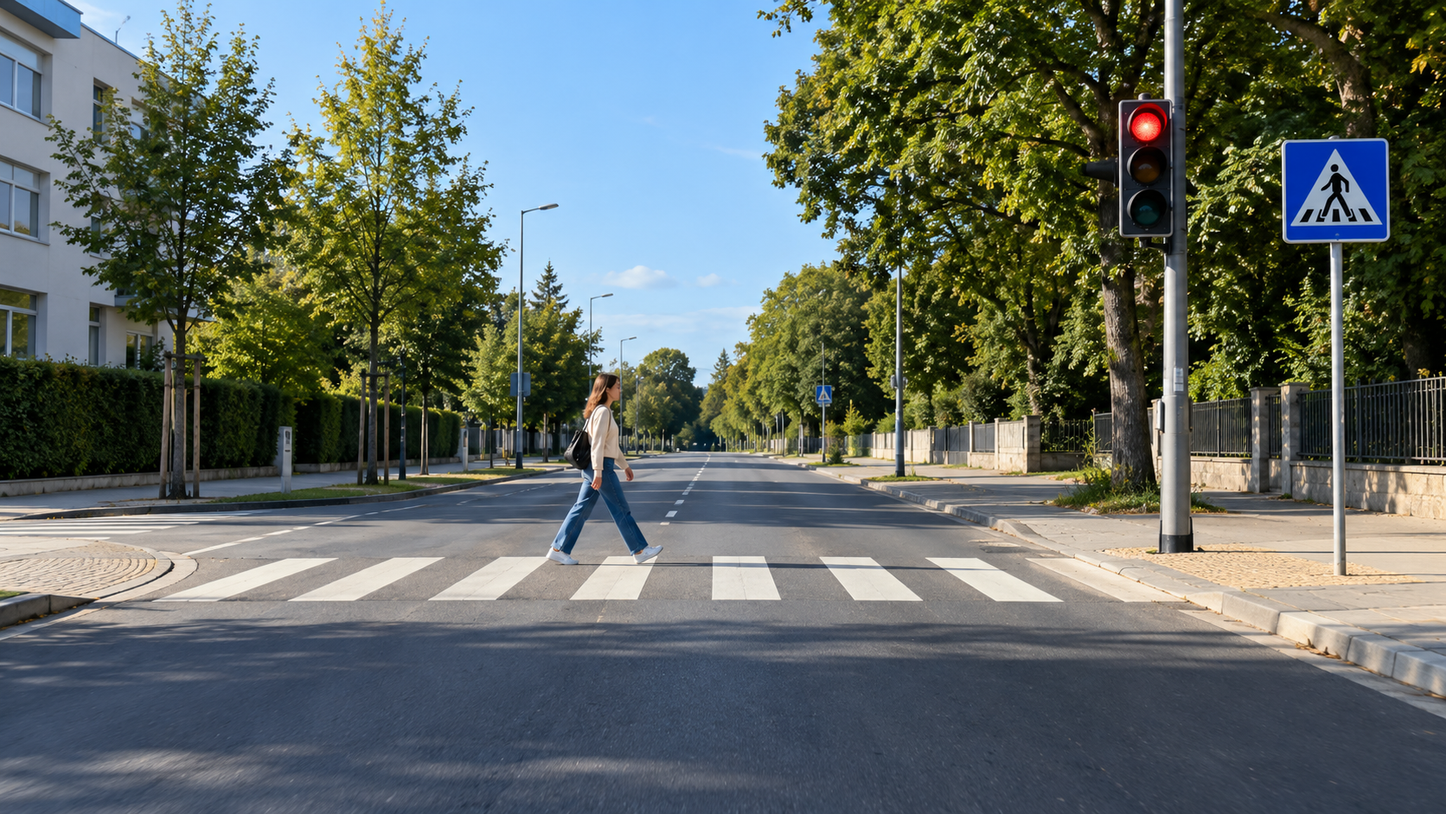bicycle: (1082, 331, 1178, 544)
motorcycle: (403, 376, 582, 568)
person: (413, 258, 585, 503), (1083, 108, 1184, 463)
